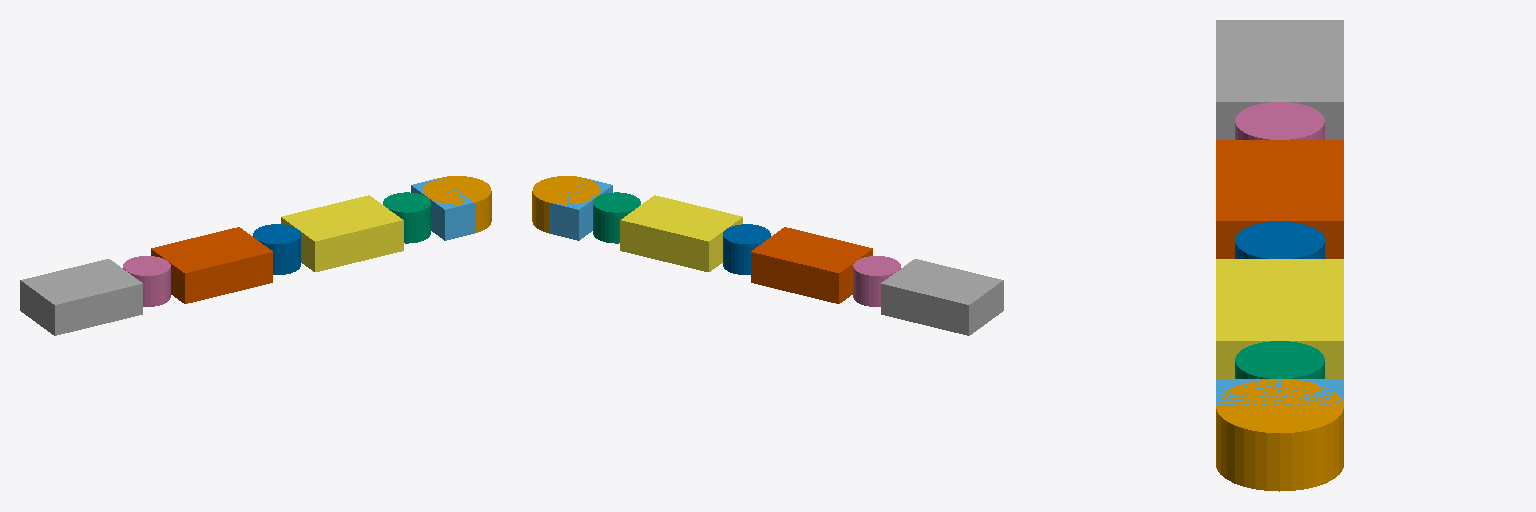
The robot description file, URDF, robot "snake/snake_planar_3_segments":
<?xml version="1.0"?>
<robot name="snake/snake_planar_3_segments">
 <link name="eye">
  <inertial>
    <mass value="1"/>
    <inertia ixx="0.00333333333333" ixy="0" ixz="0" iyy="0.00333333333333" iyz="0" izz="0.0025"/>
  </inertial>
  <visual>
    <origin rpy="0 0 1.57" xyz="0 0 0"/>
    <geometry>
      <cylinder length="0.1" radius="0.1"/>
    </geometry>
  </visual>
  <collision>
    <origin rpy="0 0 1.57" xyz="0 0 0"/>
    <geometry>
      <cylinder length="0.1" radius="0.1"/>
    </geometry>
  </collision>
 </link>

 <link name="body0">
  <inertial>
    <mass value="1"/>
    <inertia ixx="0.00166666666667" ixy="0" ixz="0" iyy="0.00416666666667" iyz="0" izz="0.00416666666667"/>
  </inertial>
  <visual>
    <origin rpy="0 0 0" xyz="0 0 0"/>
    <geometry>
      <box size="0.1 0.2 0.1"/>
    </geometry>
  </visual>
  <collision>
    <origin rpy="0 0 0" xyz="0 0 0"/>
    <geometry>
      <box size="0.1 0.2 0.1"/>
    </geometry>
  </collision>
 </link>

<joint name="joint_fixed_eye_body0" type="fixed">
  <origin rpy="0 0 0" xyz="-0.05 0 0"/>
  <parent link="eye"/>
  <child link="body0"/>
</joint>

 <link name="body1_joint_link">
  <inertial>
    <mass value="1"/>
    <inertia ixx="0.00205833333333" ixy="0" ixz="0" iyy="0.00205833333333" iyz="0" izz="0.001225"/>
  </inertial>
  <visual>
    <origin rpy="0 0 1.57" xyz="0 0 0"/>
    <geometry>
      <cylinder length="0.1" radius="0.07"/>
    </geometry>
  </visual>
  <collision>
    <origin rpy="0 0 1.57" xyz="0 0 0"/>
    <geometry>
      <cylinder length="0.1" radius="0.07"/>
    </geometry>
  </collision>
 </link>

<joint name="joint_fixed_body0_body1_joint_link" type="fixed">
  <origin rpy="0 0 0" xyz="-0.12001 0 0"/>
  <parent link="body0"/>
  <child link="body1_joint_link"/>
</joint>

<joint name="joint_revolute_body1_joint_link_body1_Z" type="revolute">
  <origin rpy="0 0 0" xyz="0 0 0"/>
  <parent link="body1_joint_link"/>
  <child link="body1"/>
  <axis xyz="0 0 1"/>
  <dynamics damping="0.01" friction="0.5"/>
  <limit lower="-1.1780972451" upper="1.1780972451" effort="0.01" velocity="100"/>
</joint>

 <link name="body1">
  <inertial>
    <mass value="1"/>
    <inertia ixx="0.00833333333333" ixy="0" ixz="0" iyy="0.0108333333333" iyz="0" izz="0.00416666666667"/>
  </inertial>
  <visual>
    <origin rpy="0 0 0" xyz="-0.22001 0 0"/>
    <geometry>
      <box size="0.3 0.2 0.1"/>
    </geometry>
  </visual>
  <collision>
    <origin rpy="0 0 0" xyz="-0.22001 0 0"/>
    <geometry>
      <box size="0.3 0.2 0.1"/>
    </geometry>
  </collision>
 </link>

 <link name="body2_joint_link">
  <inertial>
    <mass value="1"/>
    <inertia ixx="0.00205833333333" ixy="0" ixz="0" iyy="0.00205833333333" iyz="0" izz="0.001225"/>
  </inertial>
  <visual>
    <origin rpy="0 0 1.57" xyz="0 0 0"/>
    <geometry>
      <cylinder length="0.1" radius="0.07"/>
    </geometry>
  </visual>
  <collision>
    <origin rpy="0 0 1.57" xyz="0 0 0"/>
    <geometry>
      <cylinder length="0.1" radius="0.07"/>
    </geometry>
  </collision>
 </link>

<joint name="joint_fixed_body1_body2_joint_link" type="fixed">
  <origin rpy="0 0 0" xyz="-0.44001 0 0"/>
  <parent link="body1"/>
  <child link="body2_joint_link"/>
</joint>

<joint name="joint_revolute_body2_joint_link_body2_Z" type="revolute">
  <origin rpy="0 0 0" xyz="0 0 0"/>
  <parent link="body2_joint_link"/>
  <child link="body2"/>
  <axis xyz="0 0 1"/>
  <dynamics damping="0.01" friction="0.5"/>
  <limit lower="-1.1780972451" upper="1.1780972451" effort="0.01" velocity="100"/>
</joint>

 <link name="body2">
  <inertial>
    <mass value="1"/>
    <inertia ixx="0.00833333333333" ixy="0" ixz="0" iyy="0.0108333333333" iyz="0" izz="0.00416666666667"/>
  </inertial>
  <visual>
    <origin rpy="0 0 0" xyz="-0.22001 0 0"/>
    <geometry>
      <box size="0.3 0.2 0.1"/>
    </geometry>
  </visual>
  <collision>
    <origin rpy="0 0 0" xyz="-0.22001 0 0"/>
    <geometry>
      <box size="0.3 0.2 0.1"/>
    </geometry>
  </collision>
 </link>

 <link name="body3_joint_link">
  <inertial>
    <mass value="1"/>
    <inertia ixx="0.00205833333333" ixy="0" ixz="0" iyy="0.00205833333333" iyz="0" izz="0.001225"/>
  </inertial>
  <visual>
    <origin rpy="0 0 1.57" xyz="0 0 0"/>
    <geometry>
      <cylinder length="0.1" radius="0.07"/>
    </geometry>
  </visual>
  <collision>
    <origin rpy="0 0 1.57" xyz="0 0 0"/>
    <geometry>
      <cylinder length="0.1" radius="0.07"/>
    </geometry>
  </collision>
 </link>

<joint name="joint_fixed_body2_body3_joint_link" type="fixed">
  <origin rpy="0 0 0" xyz="-0.44001 0 0"/>
  <parent link="body2"/>
  <child link="body3_joint_link"/>
</joint>

<joint name="joint_revolute_body3_joint_link_body3_Z" type="revolute">
  <origin rpy="0 0 0" xyz="0 0 0"/>
  <parent link="body3_joint_link"/>
  <child link="body3"/>
  <axis xyz="0 0 1"/>
  <dynamics damping="0.01" friction="0.5"/>
  <limit lower="-1.1780972451" upper="1.1780972451" effort="0.01" velocity="100"/>
</joint>

 <link name="body3">
  <inertial>
    <mass value="1"/>
    <inertia ixx="0.00833333333333" ixy="0" ixz="0" iyy="0.0108333333333" iyz="0" izz="0.00416666666667"/>
  </inertial>
  <visual>
    <origin rpy="0 0 0" xyz="-0.22001 0 0"/>
    <geometry>
      <box size="0.3 0.2 0.1"/>
    </geometry>
  </visual>
  <collision>
    <origin rpy="0 0 0" xyz="-0.22001 0 0"/>
    <geometry>
      <box size="0.3 0.2 0.1"/>
    </geometry>
  </collision>
 </link>

  <klampt package_root="../../.." default_acc_max="4" >
  </klampt>
</robot>

--- What the picture shows (computed from the rendered views, not written in the file) ---
The picture shows the robot from 3 angles, left to right: view 1: azimuth 30°, elevation 25°; view 2: azimuth 150°, elevation 25°; view 3: azimuth 270°, elevation 25°; orthographic projection.
Robot: snake/snake_planar_3_segments — 8 links, 7 joints (3 revolute, 4 fixed); root link eye; default pose: every joint at zero.
Links seen in each view (by area): view 1: body3, body1, body2, eye, body0, body3_joint_link, body2_joint_link, body1_joint_link; view 2: body3, body1, body2, eye, body0, body2_joint_link, body3_joint_link, body1_joint_link; view 3: body1, body3, eye, body2, body1_joint_link, body3_joint_link, body2_joint_link, body0.
Boxes of the visible links, bbox=[...] form: body3: bbox=[20, 259, 142, 335]; body1: bbox=[281, 195, 403, 271]; body2: bbox=[151, 227, 272, 303]; eye: bbox=[423, 176, 491, 232]; body0: bbox=[411, 178, 474, 240]; body3_joint_link: bbox=[123, 256, 170, 306]; body2_joint_link: bbox=[253, 224, 300, 274]; body1_joint_link: bbox=[383, 192, 430, 243]; body3: bbox=[881, 259, 1003, 335]; body1: bbox=[620, 195, 742, 271]; body2: bbox=[751, 227, 872, 303]; eye: bbox=[532, 176, 600, 232]; body0: bbox=[549, 178, 612, 240]; body2_joint_link: bbox=[723, 224, 770, 274]; body3_joint_link: bbox=[853, 256, 900, 306]; body1_joint_link: bbox=[593, 192, 640, 243]; body1: bbox=[1216, 259, 1343, 378]; body3: bbox=[1216, 20, 1343, 139]; eye: bbox=[1216, 379, 1343, 491]; body2: bbox=[1216, 140, 1343, 258]; body1_joint_link: bbox=[1235, 341, 1324, 378]; body3_joint_link: bbox=[1235, 102, 1324, 139]; body2_joint_link: bbox=[1235, 221, 1324, 258]; body0: bbox=[1216, 379, 1343, 405].
Size in the robot's own frame: 1.52 by 0.2 by 0.1 metres.
Geometry: primitives only (box / cylinder / sphere), no mesh files.